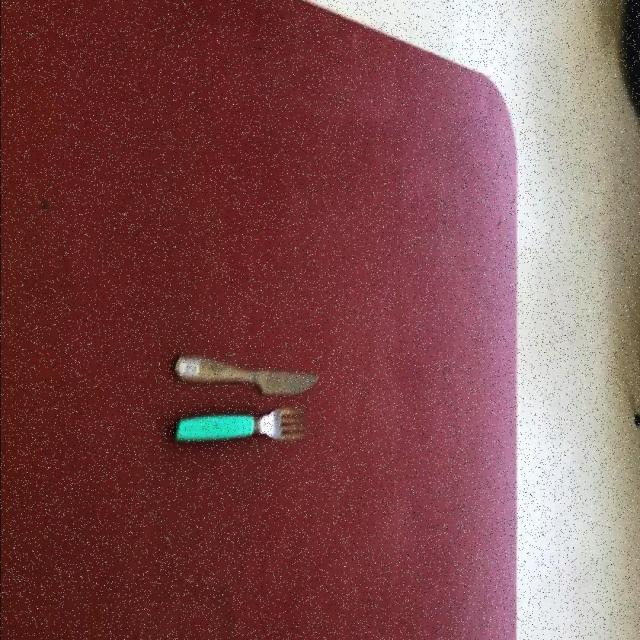Fork: (174, 408, 306, 445)
Knife: (174, 356, 321, 398)
